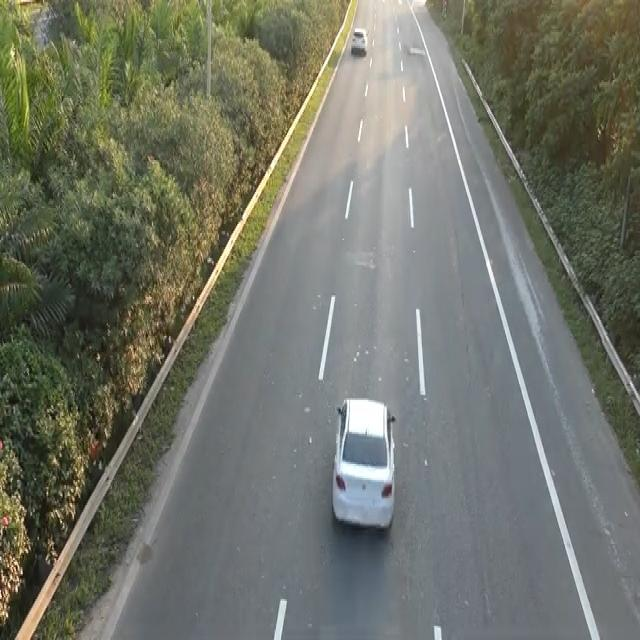bus: (328, 391, 397, 533)
